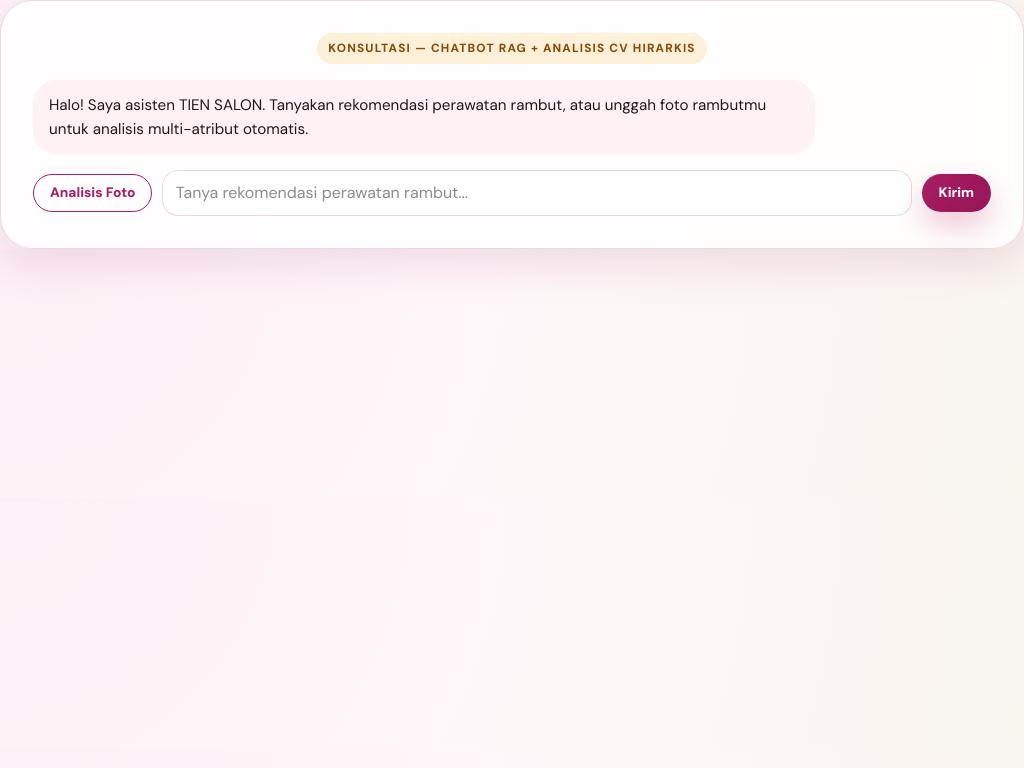
Test: ConsultChat › mempertahankan pesan kesalahan Gagal mendapatkan balasan.
The width and height of the screenshot is (1024, 768).
Type "Pertanyaan gagal" into the field.
click(537, 193); type("Pertanyaan gagal")  # box [162,170,912,216]
Then press Enter
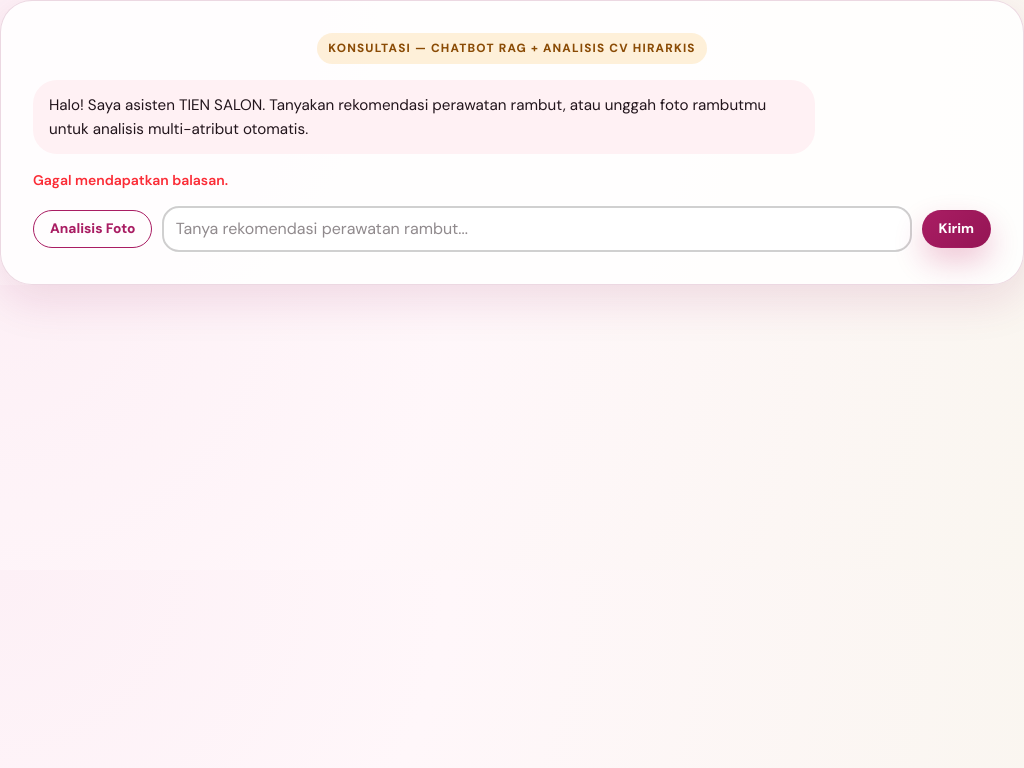
Expected: the field is enabled, [162,206,912,252]
Expected: the text "Gagal mendapatkan balasan." is shown, [33,171,228,189]
